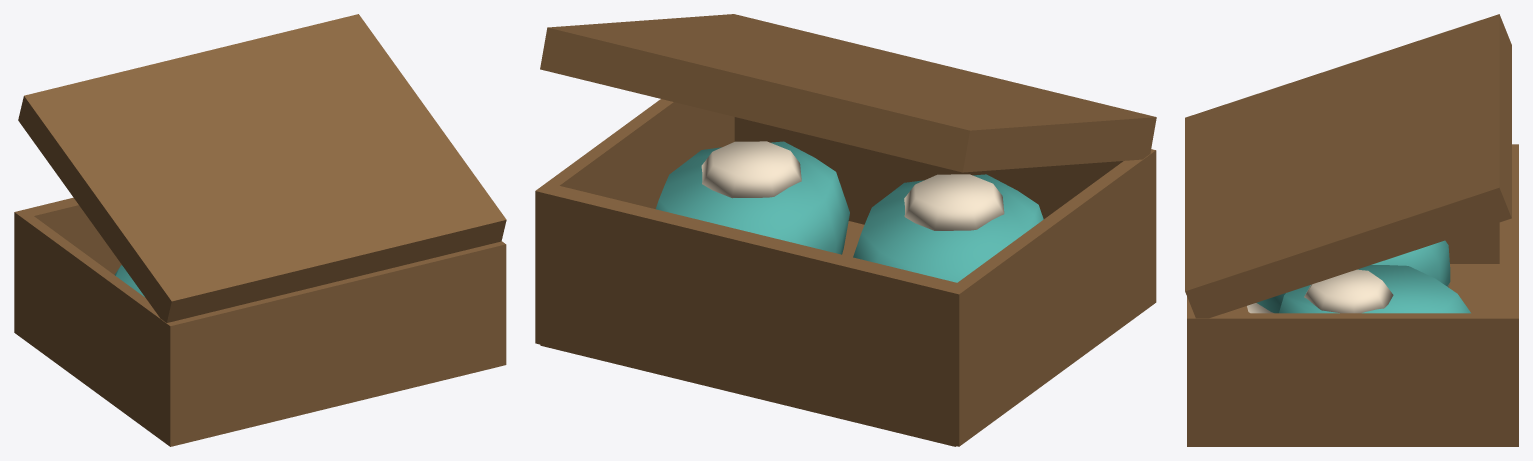
The model's file is ShoeBox.fbx.
3 views of the same model, side by side, from view 1: azimuth 30°, elevation 25°; view 2: azimuth 150°, elevation 25°; view 3: azimuth 270°, elevation 25° (orthographic). The views are drawn at different scales.
Parts seen in each view (by area): view 1: Lid, ShoeBox; view 2: ShoeBox, Lid, ShoePair; view 3: Lid, ShoeBox, ShoePair.
Part boxes in pixels (box(x1,y1,x2,y2)): Lid: box(18, 14, 506, 322); ShoeBox: box(14, 197, 506, 446); ShoeBox: box(535, 99, 1156, 446); Lid: box(540, 14, 1156, 172); ShoePair: box(656, 141, 1043, 282); Lid: box(1185, 14, 1511, 318); ShoeBox: box(1187, 144, 1518, 446); ShoePair: box(1247, 240, 1470, 313).
Bounding box in the file's own units: 99.95 × 69.71 × 80.95.
